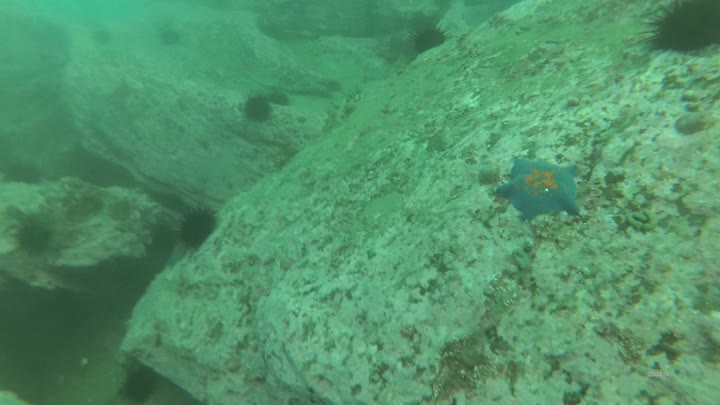echinus: (635, 1, 720, 56), (175, 206, 220, 253), (116, 362, 161, 405), (14, 222, 56, 259), (408, 22, 455, 55), (4, 157, 44, 186), (242, 93, 274, 125), (91, 28, 114, 47), (267, 90, 291, 108), (158, 30, 183, 47)
starfish: (495, 157, 582, 221)
